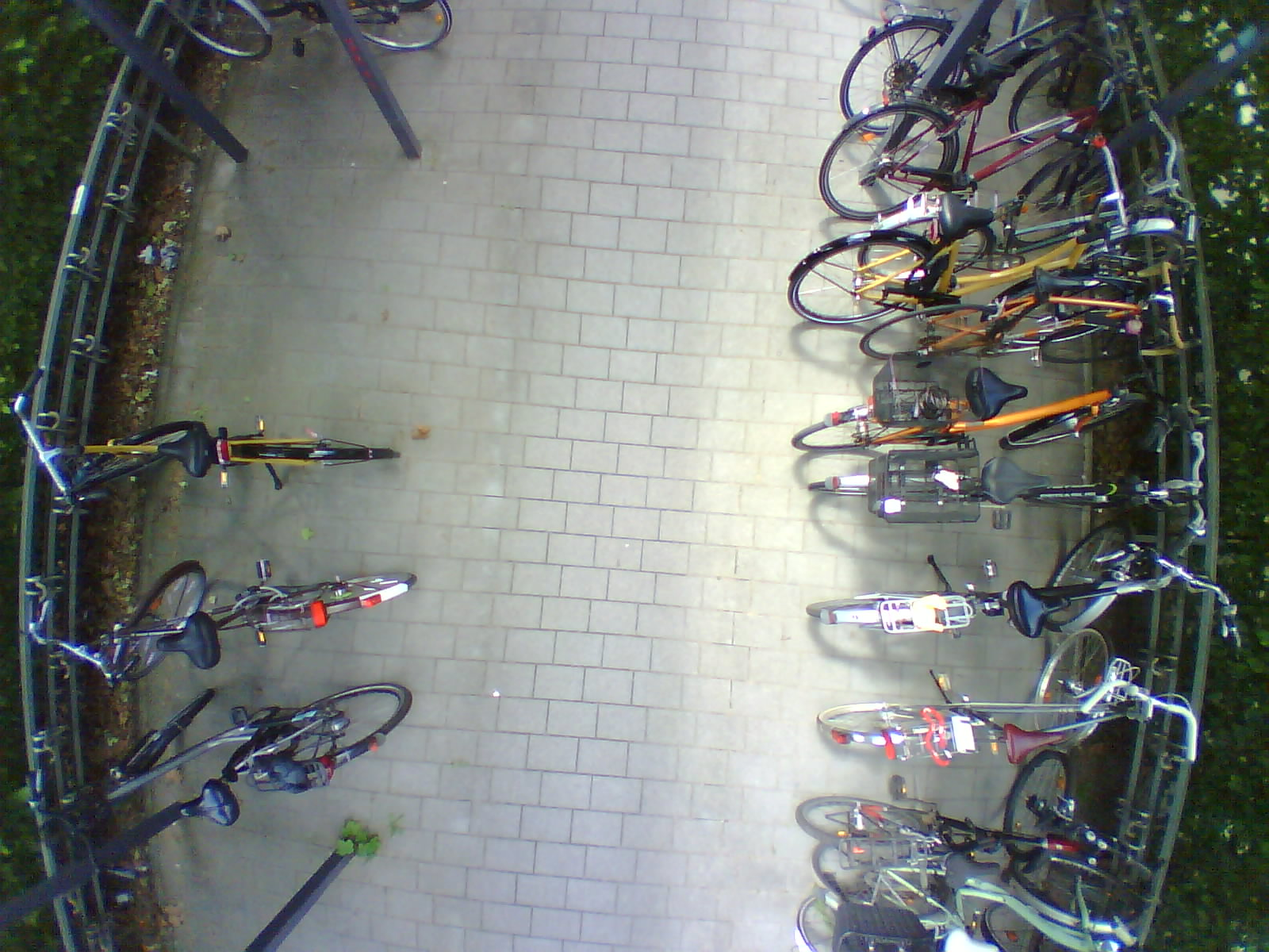bicylce: (810, 628, 1135, 775), (778, 221, 1165, 329), (811, 114, 1131, 244), (797, 533, 1151, 650), (62, 561, 416, 673), (802, 435, 1206, 527), (109, 686, 412, 804), (831, 28, 1097, 147), (806, 862, 1150, 947), (870, 187, 1180, 278), (792, 373, 1147, 451), (813, 836, 1132, 916), (34, 422, 401, 483), (796, 772, 1115, 842), (854, 299, 1173, 367)
saddle: (982, 445, 1052, 504), (153, 615, 216, 672), (1004, 580, 1067, 635), (153, 422, 212, 478), (997, 720, 1063, 763), (179, 780, 238, 828), (966, 367, 1017, 417), (962, 46, 1018, 86), (941, 850, 997, 890), (935, 195, 988, 236), (1034, 262, 1086, 296), (940, 925, 1000, 952)
